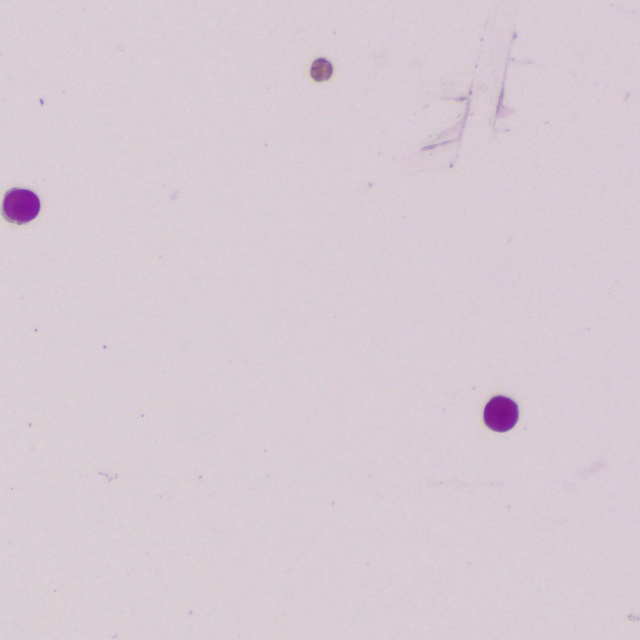viable: (3, 189, 39, 223), (484, 397, 518, 431)
